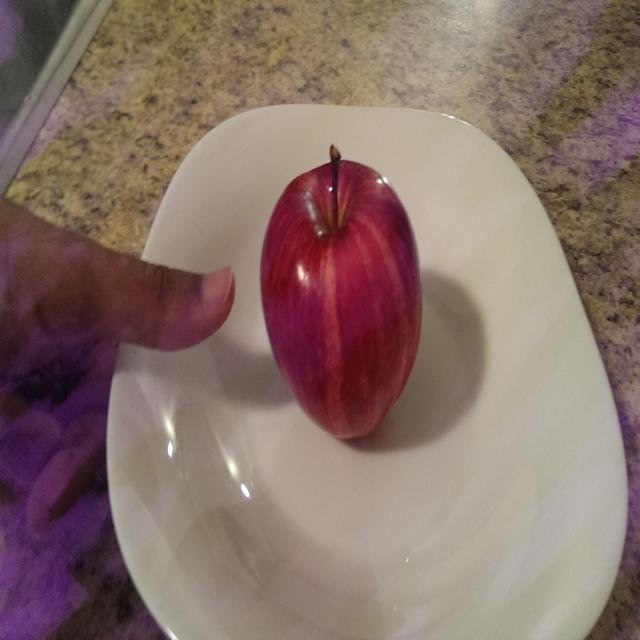apple: (255, 142, 445, 460)
